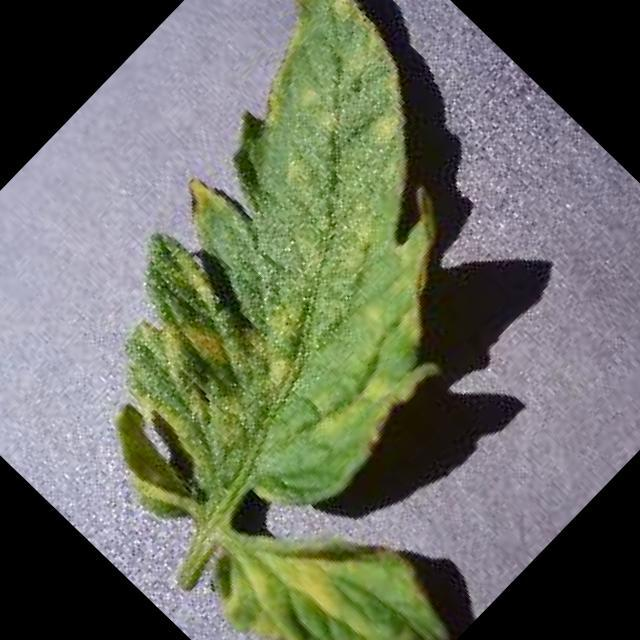Tomato mold leaf: (0, 0, 611, 545), (184, 454, 477, 640)
